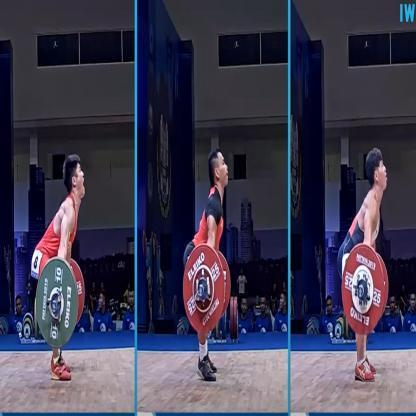barbell: (182, 242, 229, 336), (36, 256, 84, 346), (342, 244, 389, 334)
